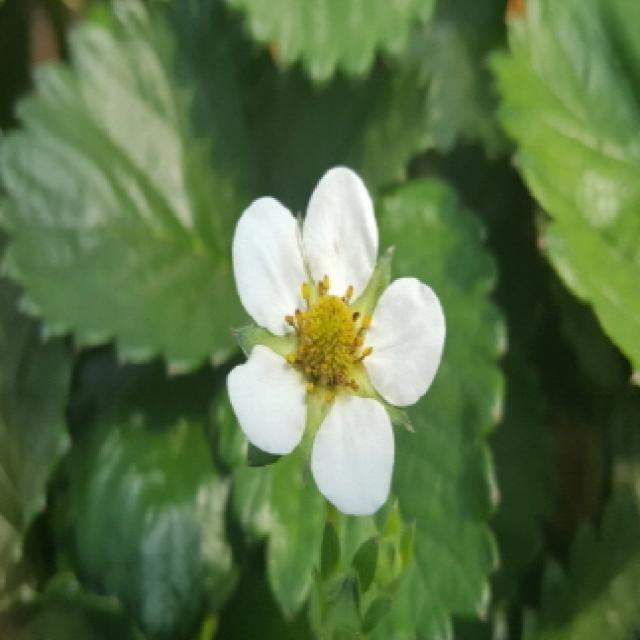Blossom Blight: (280, 271, 377, 409)
